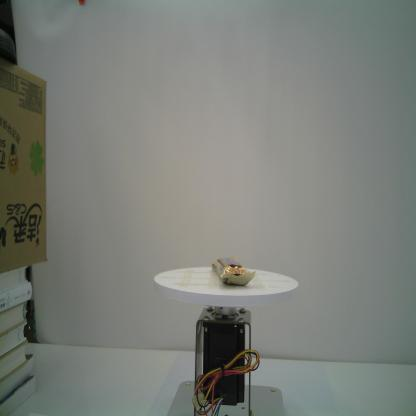Chocolate: (211, 255, 256, 286)
